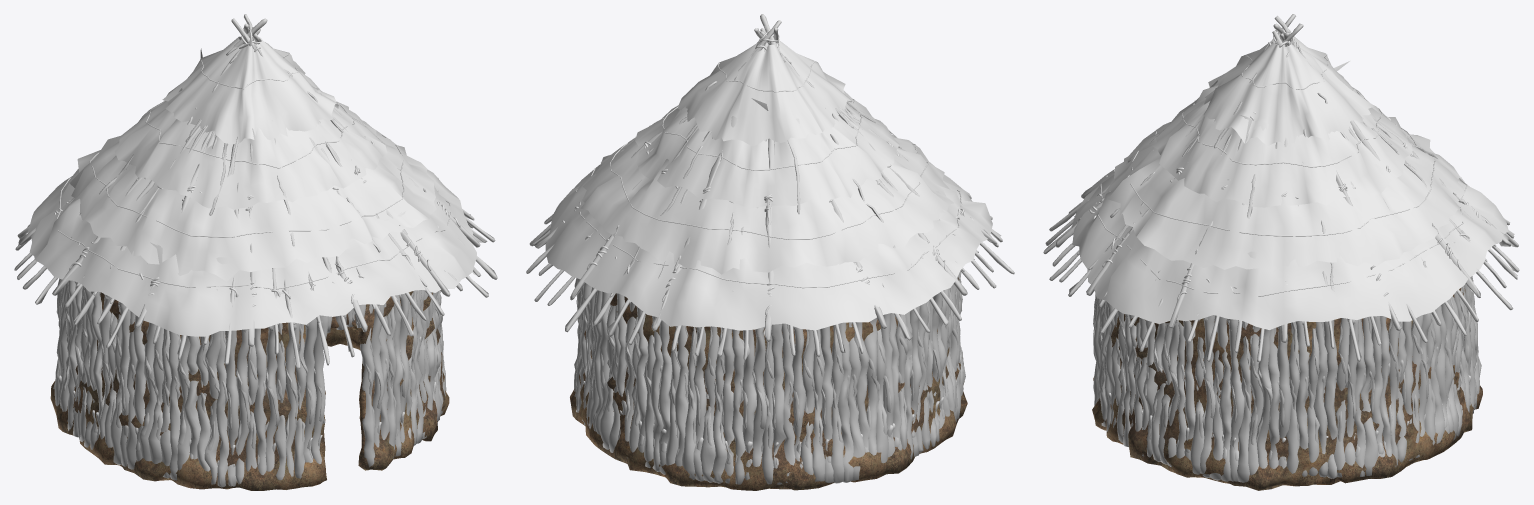
Rendered from highpoly_african_hut_004.fbx.
3 views of the same model, side by side, from view 1: azimuth 30°, elevation 25°; view 2: azimuth 150°, elevation 25°; view 3: azimuth 270°, elevation 25° (orthographic).
Parts seen in each view (by area): view 1: highpoly_african_hut_004; view 2: highpoly_african_hut_004; view 3: highpoly_african_hut_004.
Part boxes in pixels (x1=…): highpoly_african_hut_004: x1=14, y1=14, x2=497, y2=490; highpoly_african_hut_004: x1=526, y1=14, x2=1014, y2=490; highpoly_african_hut_004: x1=1043, y1=14, x2=1519, y2=490.
Bounding box in the file's own units: 388 × 354 × 388.
